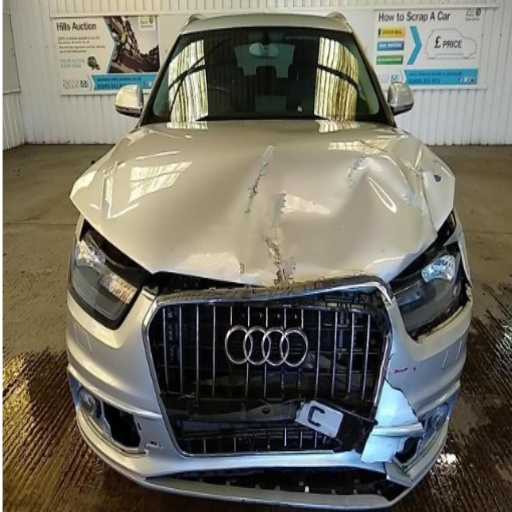dent: (190, 362, 376, 450), (145, 145, 273, 268), (276, 168, 424, 272), (262, 145, 370, 197), (388, 133, 426, 206), (236, 200, 271, 276)
scratch: (249, 147, 271, 212), (268, 238, 288, 285), (360, 138, 388, 152), (388, 367, 418, 375)
